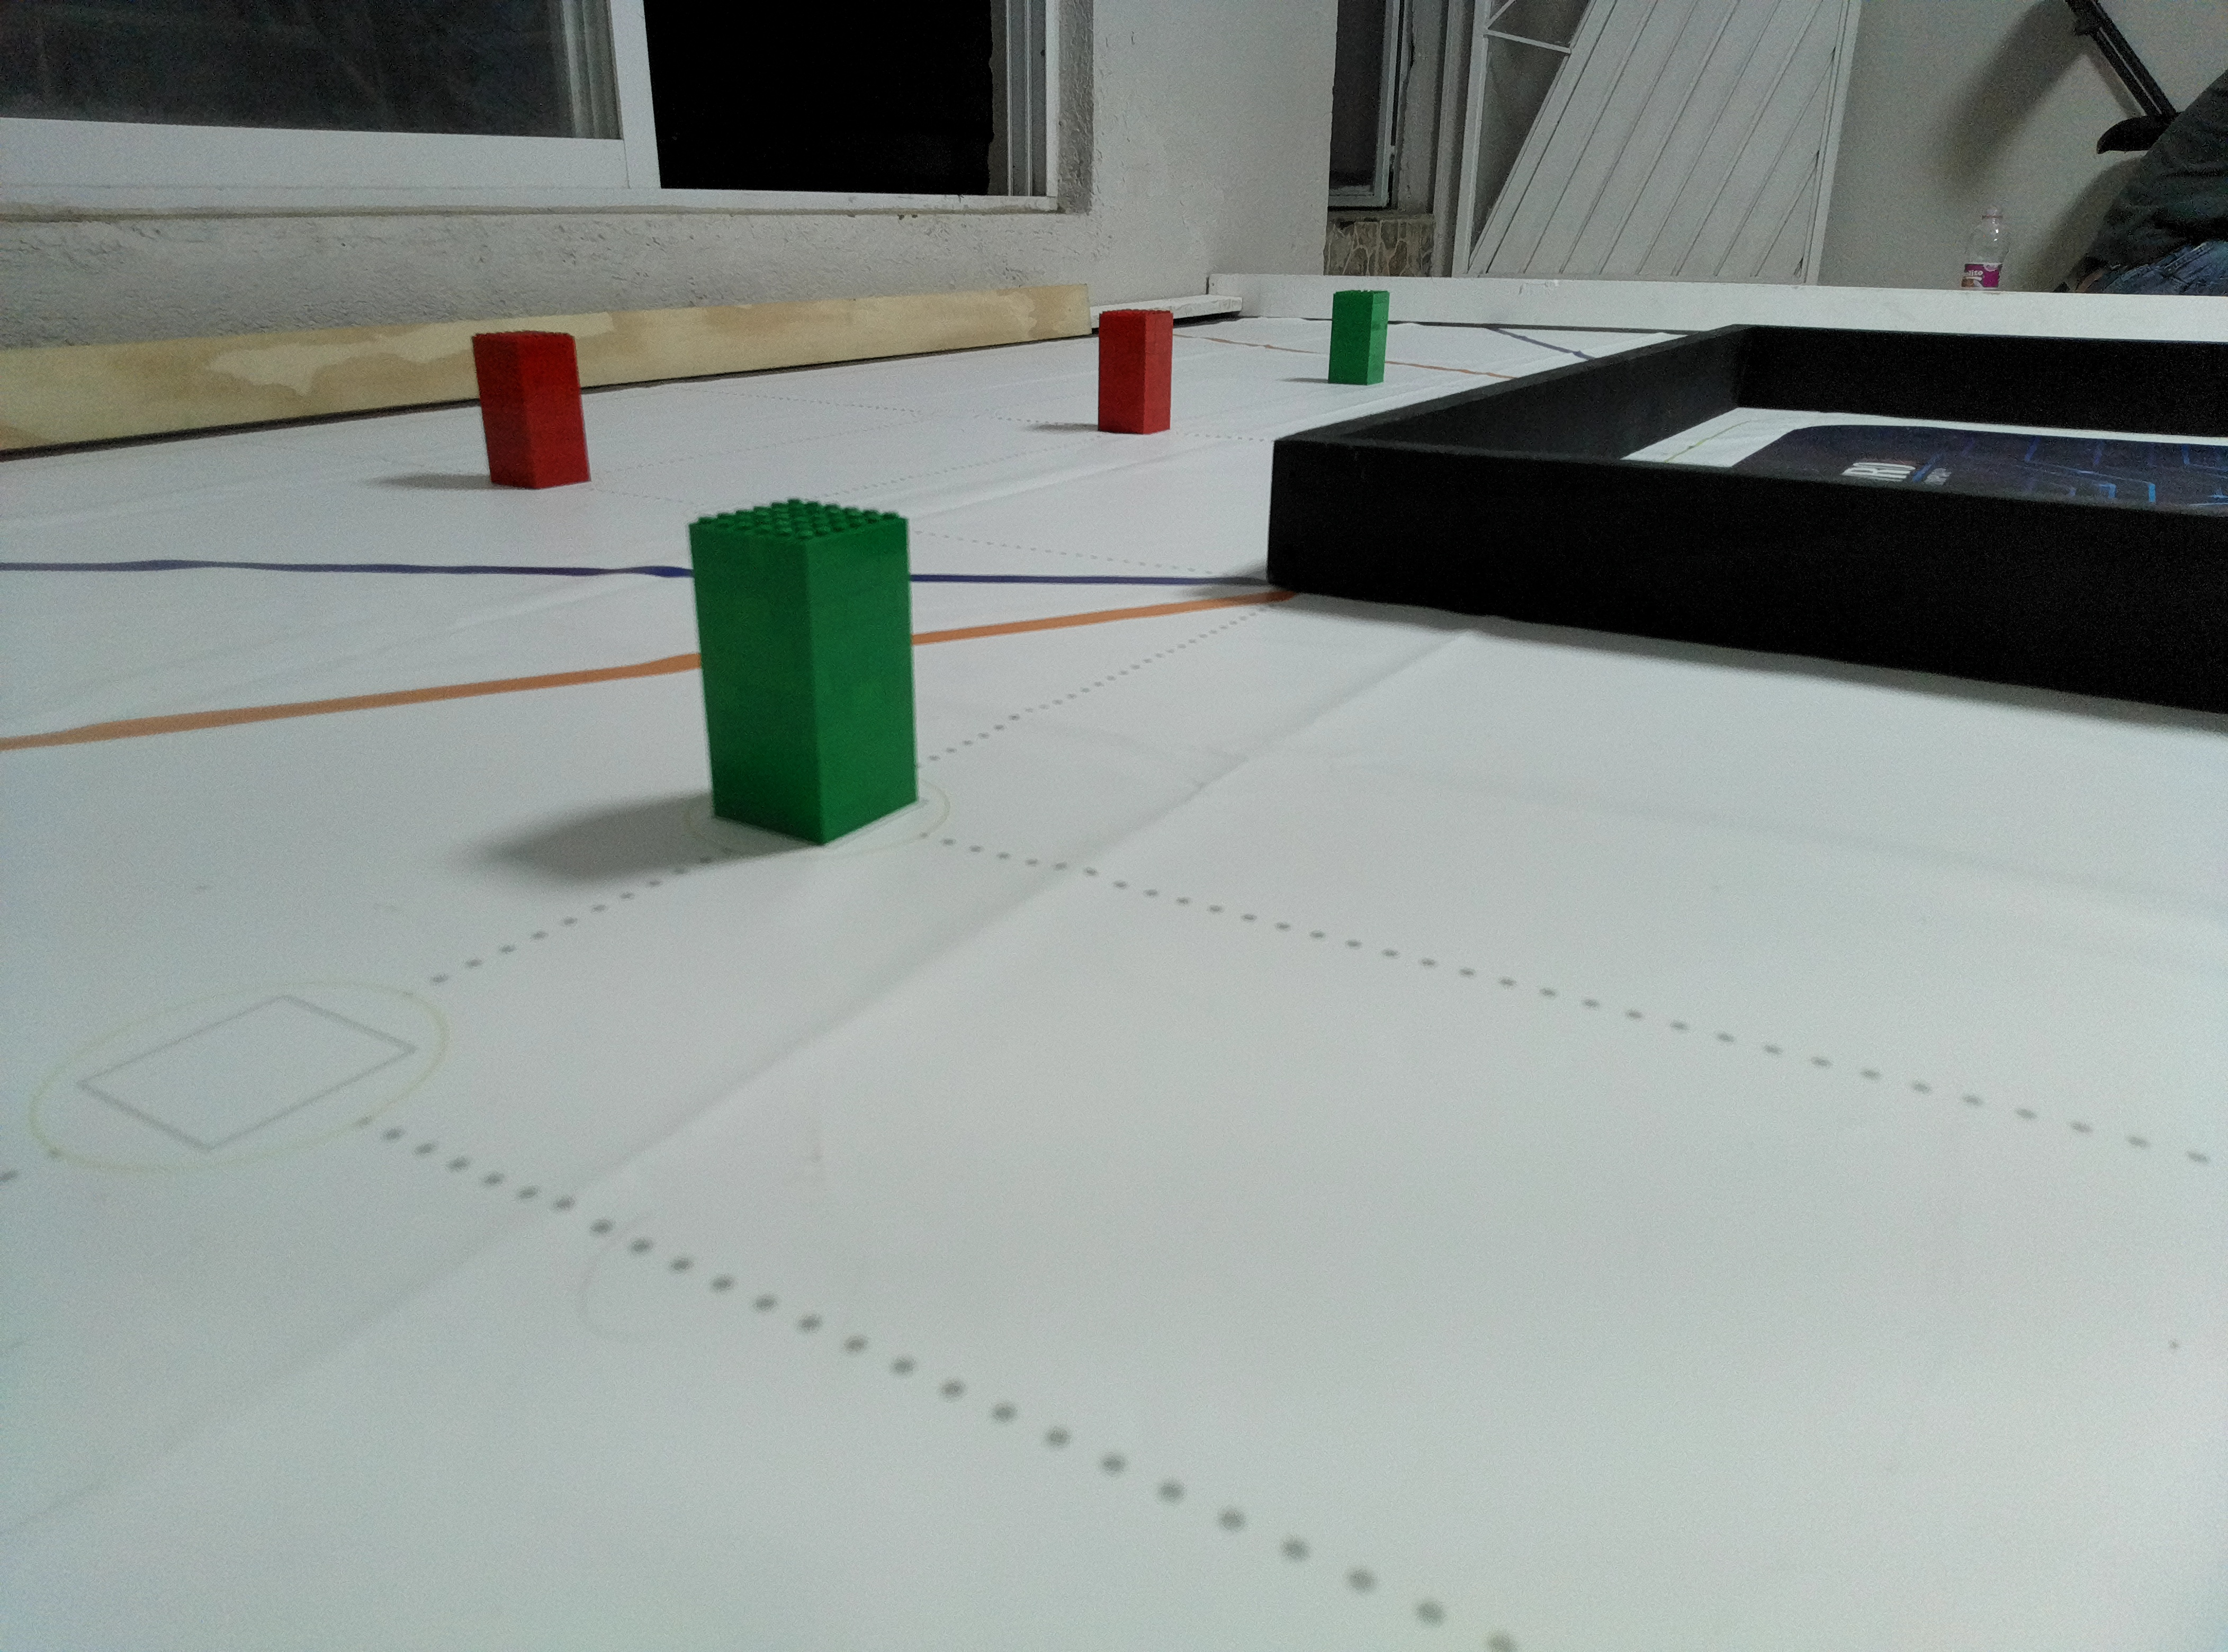greenbox: (685, 498, 918, 849), (1327, 290, 1390, 385)
redbox: (470, 330, 592, 489), (1098, 307, 1175, 436)
